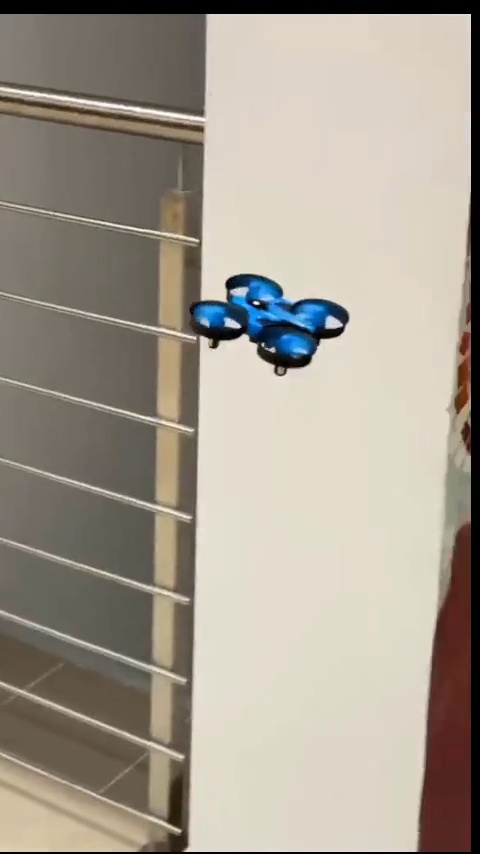drone: (193, 280, 357, 371)
